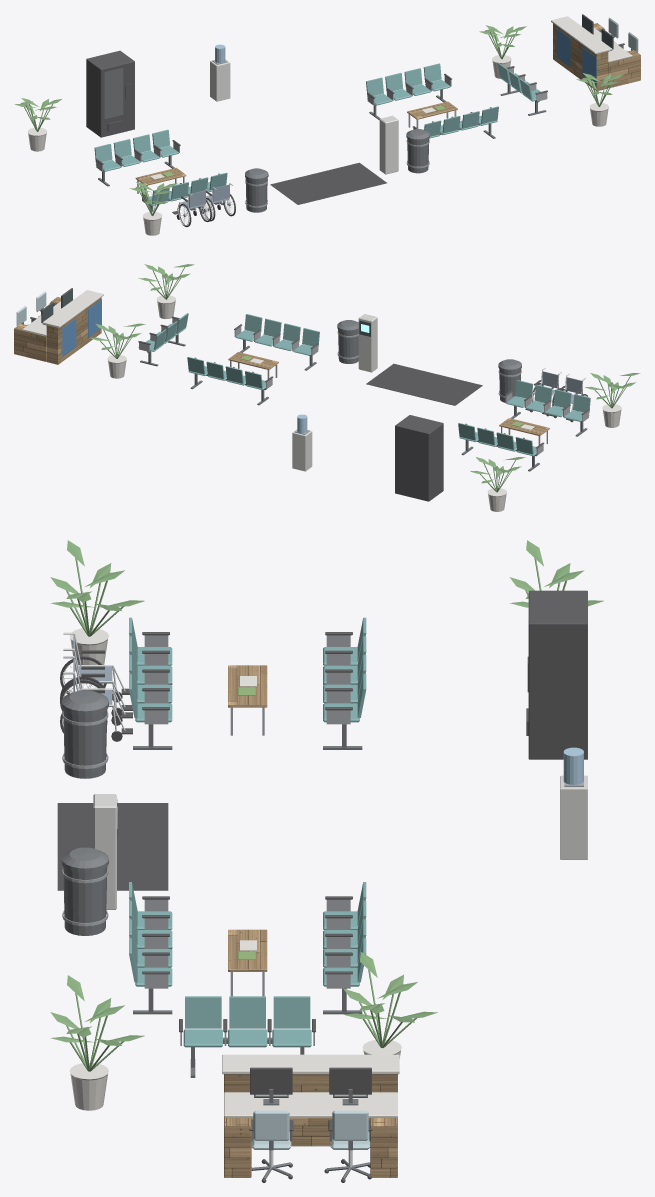
The model's file is lobby.glb.
3 views of the same model, one above another, from view 1: azimuth 30°, elevation 25°; view 2: azimuth 150°, elevation 25°; view 3: azimuth 270°, elevation 25° (orthographic). The views are drawn at different scales.
Parts seen in each view (by area): view 1: lobby_vinyl_t, lobby_dark, lobby_laminate, lobby_rubber, lobby_steel_d, lobby_plant, lobby_cart_w, lobby_pot, lobby_steel, lobby_counter, lobby_blue, lobby_glass (+3 smaller); view 2: lobby_vinyl_t, lobby_dark, lobby_laminate, lobby_rubber, lobby_steel_d, lobby_plant, lobby_cart_w, lobby_pot, lobby_steel, lobby_counter, lobby_blue, lobby_fabric2 (+1 smaller); view 3: lobby_dark, lobby_vinyl_t, lobby_steel_d, lobby_laminate, lobby_steel, lobby_rubber, lobby_plant, lobby_counter, lobby_cart_w, lobby_pot, lobby_vinyl_b, lobby_chrome.
Boxes of the visible parts, bbox=[...] form: lobby_vinyl_t: bbox=[94, 62, 547, 205]; lobby_dark: bbox=[86, 14, 624, 214]; lobby_laminate: bbox=[135, 23, 640, 185]; lobby_rubber: bbox=[176, 162, 386, 227]; lobby_steel_d: bbox=[98, 31, 632, 212]; lobby_plant: bbox=[15, 25, 624, 215]; lobby_cart_w: bbox=[210, 59, 398, 174]; lobby_pot: bbox=[27, 55, 608, 235]; lobby_steel: bbox=[96, 60, 547, 216]; lobby_counter: bbox=[551, 16, 632, 62]; lobby_blue: bbox=[556, 28, 596, 85]; lobby_glass: bbox=[105, 68, 122, 118]; lobby_vinyl_t: bbox=[138, 313, 590, 456]; lobby_dark: bbox=[30, 288, 589, 501]; lobby_laminate: bbox=[14, 297, 549, 436]; lobby_rubber: bbox=[366, 363, 587, 422]; lobby_steel_d: bbox=[22, 305, 587, 471]; lobby_plant: bbox=[90, 264, 640, 492]; lobby_cart_w: bbox=[292, 314, 377, 471]; lobby_pot: bbox=[107, 295, 621, 511]; lobby_steel: bbox=[139, 318, 588, 455]; lobby_counter: bbox=[22, 290, 103, 335]; lobby_blue: bbox=[62, 299, 101, 356]; lobby_fabric2: bbox=[533, 371, 582, 403]; lobby_dark: bbox=[81, 590, 587, 1182]; lobby_vinyl_t: bbox=[129, 617, 366, 1047]; lobby_steel_d: bbox=[61, 684, 370, 1178]; lobby_laminate: bbox=[224, 665, 397, 1177]; lobby_steel: bbox=[62, 635, 583, 1096]; lobby_rubber: bbox=[57, 656, 168, 890]; lobby_plant: bbox=[50, 540, 603, 1071]; lobby_counter: bbox=[222, 1054, 399, 1117]; lobby_cart_w: bbox=[93, 775, 587, 909]; lobby_pot: bbox=[69, 627, 401, 1110]; lobby_vinyl_b: bbox=[251, 1110, 370, 1149]; lobby_chrome: bbox=[62, 632, 352, 1167].
Bounding box in the file's own units: 16.05 × 1.9 × 7.01.
22 materials, 1 textured.
